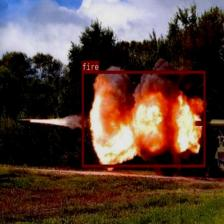fire: (82, 71, 205, 167)
